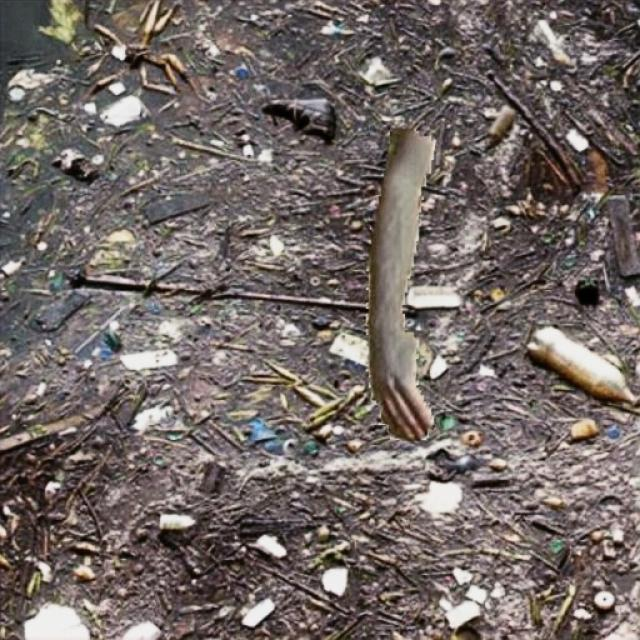Person in Rubble: (366, 129, 434, 440)
